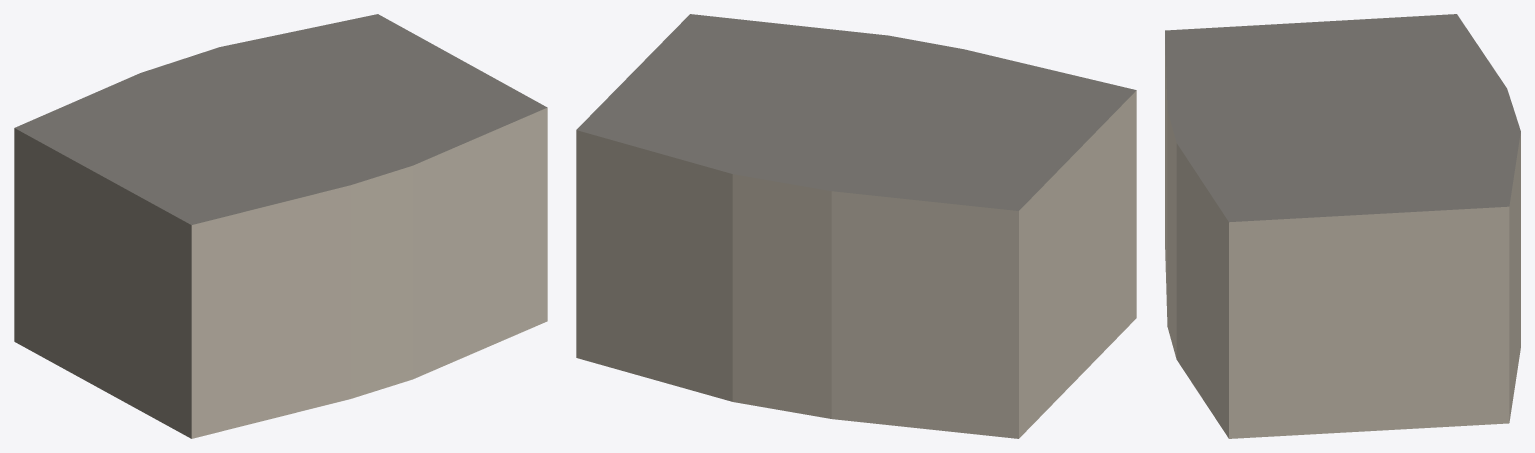
3 renders of one model, left to right at view 1: azimuth 30°, elevation 25°; view 2: azimuth 150°, elevation 25°; view 3: azimuth 270°, elevation 25°, orthographic. The views are drawn at different scales.
Visible parts, largest first — view 1: HP-w293412331; view 2: HP-w293412331; view 3: HP-w293412331.
Boxes of the visible parts, <box> form: HP-w293412331: <box>14,14,547,438</box>; HP-w293412331: <box>576,14,1136,438</box>; HP-w293412331: <box>1165,14,1520,438</box>.
Bounding box in the file's own units: 37.08 × 18 × 26.78.
